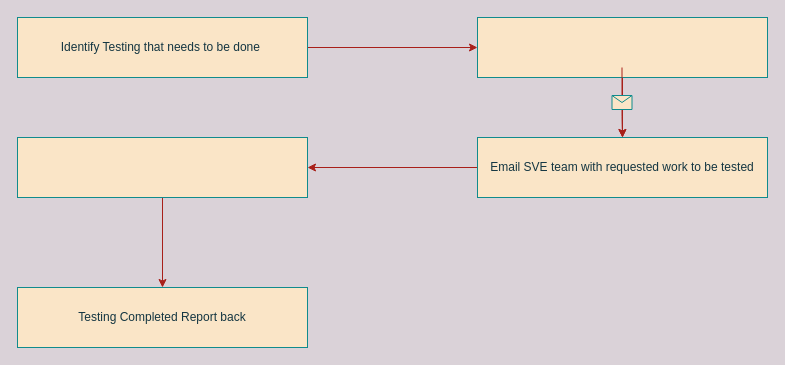
The diagram is 785 pixels wide and 365 high, and some of its shapes have lost their labels. Here are the shapes that lost their labels. From the top down, the box of each, then its label:
(476, 16, 768, 78): Add Test Cases into a Test Plan Marked for SVE
(16, 136, 308, 198): SVE reviews and plans testing -
